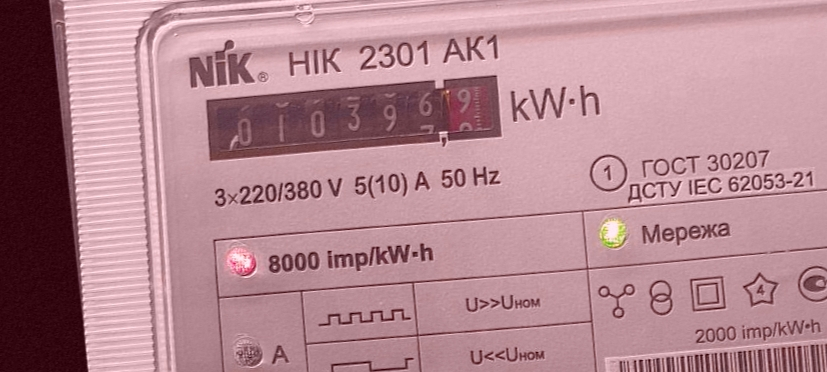0: (305, 105, 331, 141), (233, 113, 256, 148)
1: (274, 110, 290, 144)
3: (344, 100, 365, 135)
6: (414, 88, 438, 119)
9: (378, 100, 402, 135), (452, 85, 476, 117)
screen: (189, 56, 516, 182)
